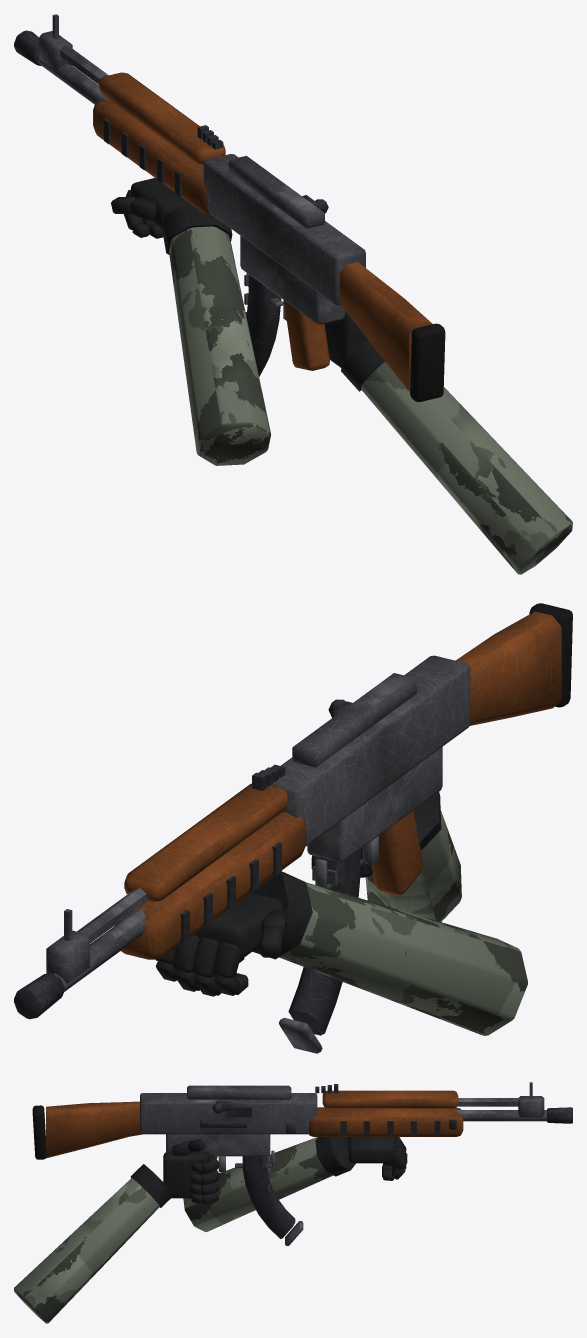
Rendered from rifle_fp.glb.
3 renders of one model, top to bottom at view 1: azimuth 30°, elevation 25°; view 2: azimuth 150°, elevation 25°; view 3: azimuth 270°, elevation 25°, orthographic. The views are drawn at different scales.
Visible parts, largest first — view 1: arms, body, mag; view 2: body, arms, mag; view 3: body, arms, mag.
Part boxes in pixels (x1=…): arms: x1=111, y1=178, x2=572, y2=574; body: x1=14, y1=14, x2=445, y2=401; mag: x1=244, y1=274, x2=281, y2=376; body: x1=14, y1=603, x2=572, y2=1019; arms: x1=155, y1=791, x2=527, y2=1035; mag: x1=279, y1=849, x2=360, y2=1053; body: x1=32, y1=1082, x2=572, y2=1172; arms: x1=14, y1=1137, x2=407, y2=1323; mag: x1=242, y1=1155, x2=303, y2=1245.
Bounding box in the file's own units: 0.3623 × 0.4326 × 1.07.
Materials: 7 (7 with a texture image).
